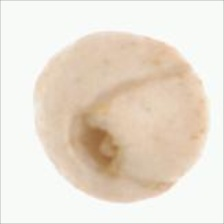L3: (67, 113, 123, 172)
L4: (33, 32, 211, 203)
